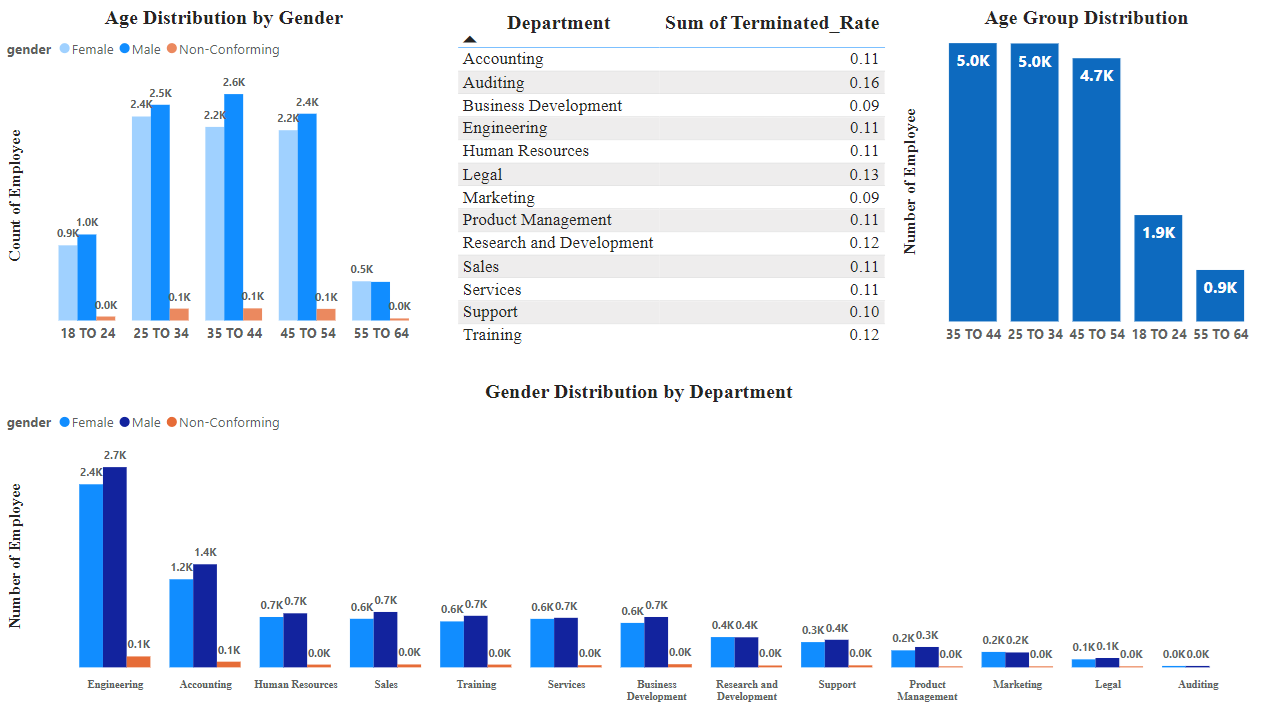

What the dashboard file says about the page in this screenshot:
{"tool":"powerbi","page":{"name":"Page 2","canvas":[1280,720],"ordinal":1},"visuals":[{"type":"columnChart","title":"Age Group Distribution","fields":{"Category":["age_group.age_group"],"Y":["Sum(age_group.count)"]},"box":[900.9,7.3,378.9,347.2],"z":0},{"type":"clusteredColumnChart","title":"Age Distribution by Gender","fields":{"Category":["age_group_gender.age_group"],"Y":["Sum(age_group_gender.count)"],"Series":["age_group_gender.gender"]},"box":[0,0,444.2,360.6],"z":1000},{"type":"tableEx","fields":{"Values":["turnover_rate.Department","Sum(turnover_rate.Terminated_Rate)"]},"box":[444.2,6.9,441.5,348.2],"z":2000},{"type":"clusteredColumnChart","title":"Gender Distribution by Department","fields":{"Category":["gender_department.department"],"Y":["Sum(gender_department.count)"],"Series":["gender_department.gender"]},"box":[0,360.6,1280.6,359.2],"z":3000}]}

Visuals, with their boxes in screenshot pixels (x1, y1, x2, y2), scaled from the page's 1280x720 canvas onto the 1277x718 screenshot:
"Age Group Distribution" columnChart: {"left": 899, "top": 7, "right": 1276, "bottom": 354}
"Age Distribution by Gender" clusteredColumnChart: {"left": 0, "top": 0, "right": 443, "bottom": 360}
tableEx - turnover_rate.Department x Sum(turnover_rate.Terminated_Rate): {"left": 443, "top": 7, "right": 884, "bottom": 354}
"Gender Distribution by Department" clusteredColumnChart: {"left": 0, "top": 360, "right": 1276, "bottom": 717}
